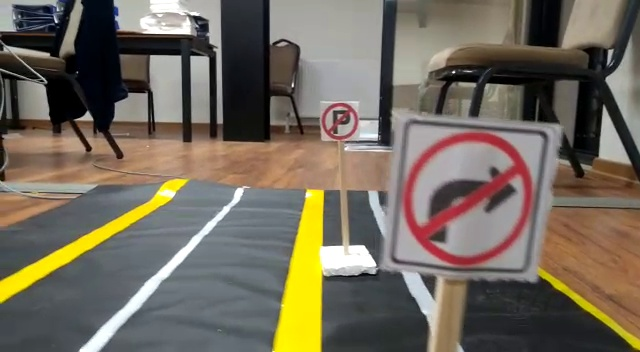park_yapilmaz: (321, 102, 362, 142)
saga_donulmez: (401, 125, 539, 273)
